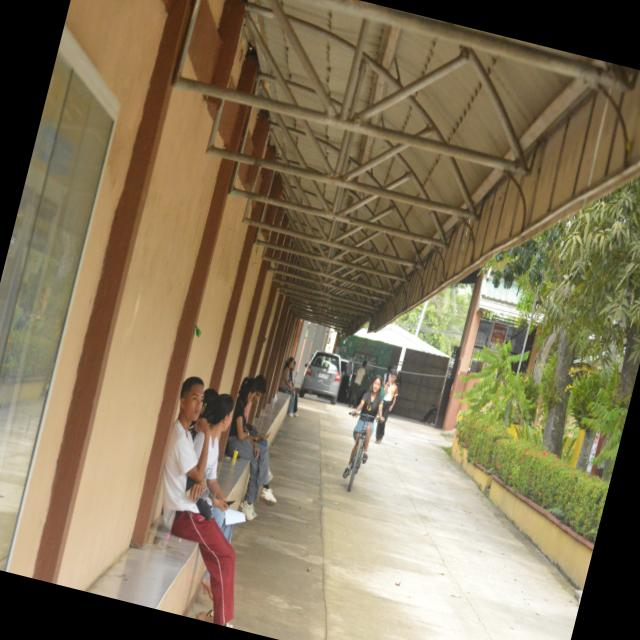person: (162, 377, 234, 626), (225, 378, 274, 520), (203, 394, 233, 542), (375, 371, 397, 443), (352, 375, 382, 422), (278, 357, 296, 416), (348, 360, 366, 406)
